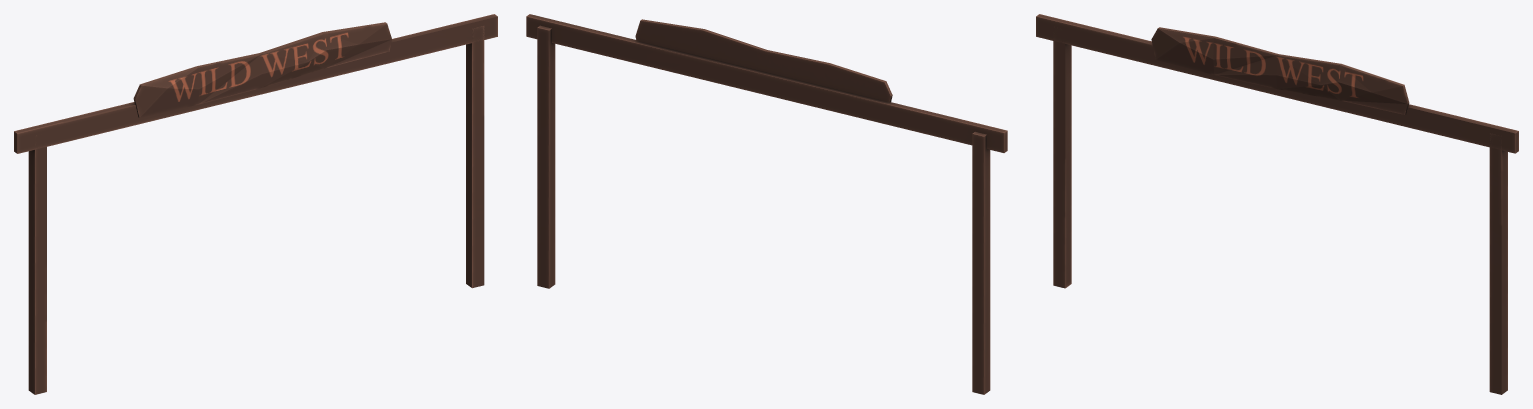
Rendered from Sign_2.fbx.
3 views of the same model, side by side, from view 1: azimuth 30°, elevation 25°; view 2: azimuth 150°, elevation 25°; view 3: azimuth 330°, elevation 25° (orthographic).
Parts seen in each view (by area): view 1: Sign_2; view 2: Sign_2; view 3: Sign_2.
Boxes of the visible parts, bbox=[...] form: Sign_2: bbox=[14, 14, 497, 394]; Sign_2: bbox=[526, 14, 1007, 394]; Sign_2: bbox=[1036, 14, 1518, 394].
Bounding box in the file's own units: 256 × 8.62 × 149.
Materials: 1 (1 with a texture image).
